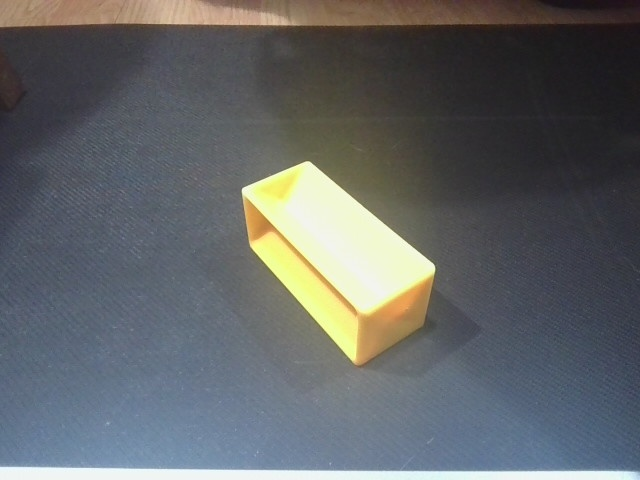YellowSample: (237, 158, 440, 369)
